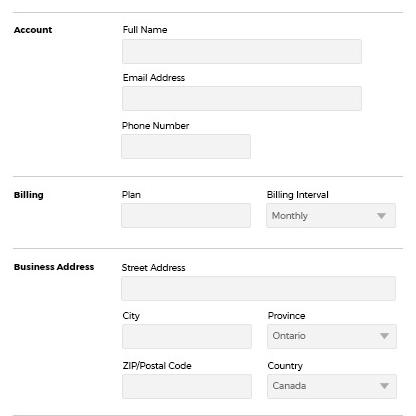field: (118, 276, 397, 302), (118, 83, 364, 112), (118, 36, 363, 65), (118, 132, 252, 159), (118, 323, 252, 350), (264, 201, 397, 228), (115, 202, 253, 228), (121, 373, 253, 400), (266, 373, 397, 399), (267, 323, 397, 349)
field_with_label: (115, 263, 399, 304), (117, 22, 366, 66), (117, 72, 366, 114), (118, 359, 256, 402), (262, 189, 400, 231), (115, 311, 254, 352), (112, 189, 254, 229), (264, 360, 399, 401), (116, 122, 254, 161), (265, 311, 399, 351)
